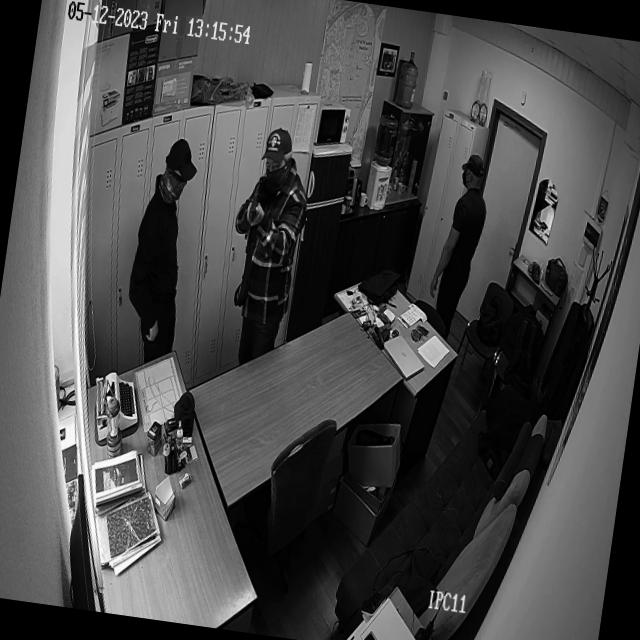gun: (244, 181, 266, 240)
person: (127, 133, 199, 314), (435, 152, 502, 315)
person with a gun: (217, 132, 325, 346)
